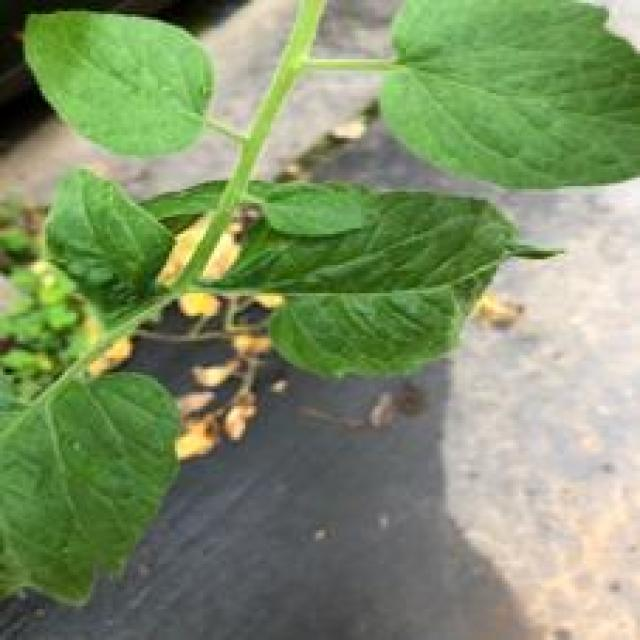Healthy Leaf: (234, 192, 570, 380), (380, 0, 640, 194), (0, 363, 189, 617), (22, 7, 212, 156)
